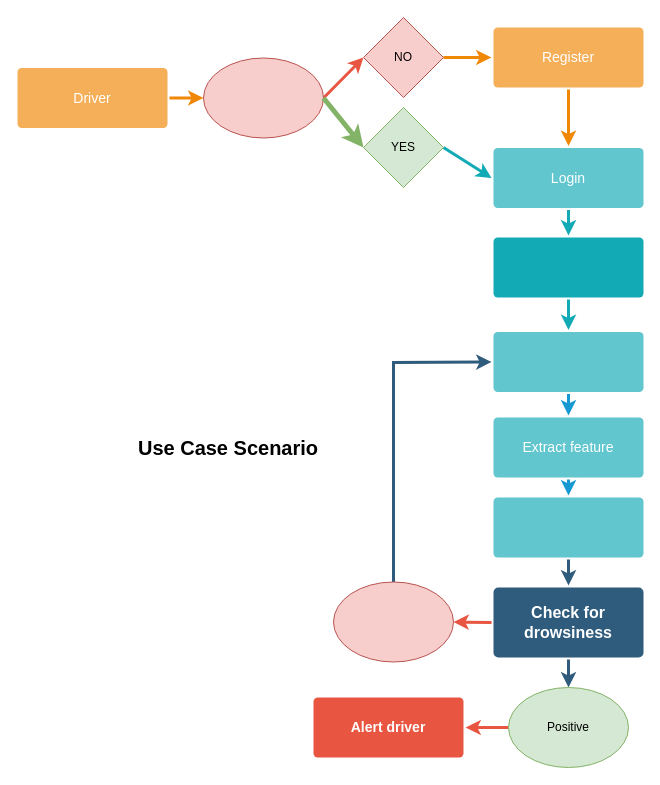
Some shapes in this 660 by 785 pixel diagram are drawn without their labels. The centre of each missing label's shape, as x and y in pixels:
"Already Registered as an user?" goes at (x=263, y=97).
"Capture real time feed" goes at (x=568, y=362).
"Negative" goes at (x=393, y=621).
"Open App" goes at (x=568, y=267).
"Track eye,mouth and posture" goes at (x=568, y=527).
